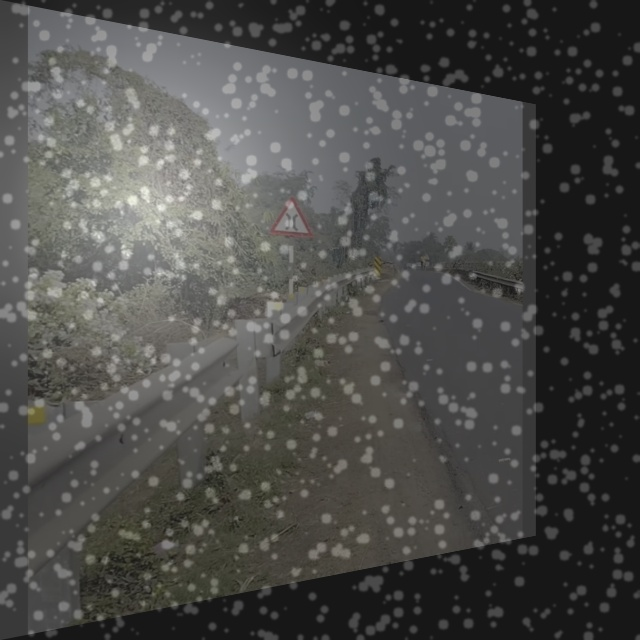Narrow_Bridge: (270, 194, 315, 240)
